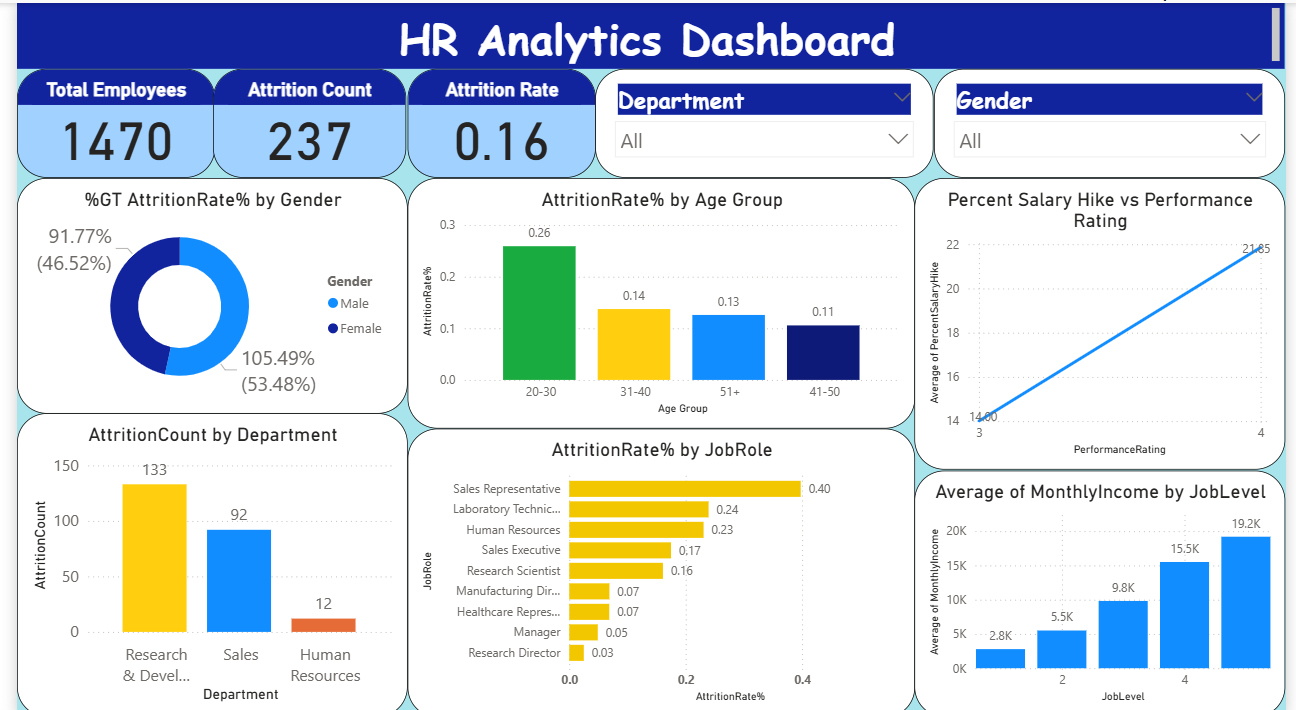

This screenshot's page, from the dashboard's own definition file:
{"tool":"powerbi","page":{"name":"Page 1","canvas":[1280,720],"ordinal":0},"visuals":[{"type":"textbox","box":[0,0,1279.5,66.6],"z":0},{"type":"card","title":"Total Employees","fields":{"Values":["HR-Employee-Attrition.TotalEmployees"]},"box":[0,66.6,199.7,109.8],"z":1000},{"type":"card","title":"Attrition Count","fields":{"Values":["HR-Employee-Attrition.AttritionCount"]},"box":[198,66.6,194.7,109.8],"z":2000},{"type":"card","title":"Attrition Rate","fields":{"Values":["HR-Employee-Attrition.AttritionRate"]},"box":[394.3,66.6,189.7,109.8],"z":3000},{"type":"clusteredColumnChart","fields":{"Category":["HR-Employee-Attrition.Department"],"Y":["HR-Employee-Attrition.AttritionCount"]},"box":[0,414.3,394.3,306.2],"z":4000},{"type":"donutChart","fields":{"Category":["HR-Employee-Attrition.Gender"],"Y":["HR-Employee-Attrition.AttritionRate%"]},"box":[0,176.4,394.3,237.9],"z":5000},{"type":"clusteredColumnChart","fields":{"Category":["HR-Employee-Attrition.Age Group"],"Y":["HR-Employee-Attrition.AttritionRate%"]},"box":[394.3,176.4,512.5,252.9],"z":6000},{"type":"barChart","fields":{"Y":["HR-Employee-Attrition.AttritionRate%"],"Category":["HR-Employee-Attrition.JobRole"]},"box":[394.3,429.3,512.5,291.2],"z":7000},{"type":"clusteredColumnChart","fields":{"Category":["HR-Employee-Attrition.JobLevel"],"Y":["Avg(HR-Employee-Attrition.MonthlyIncome)"]},"box":[905.7,471.4,374.3,248.6],"z":8000},{"type":"lineChart","title":"Percent Salary Hike vs Performance Rating","fields":{"Category":["HR-Employee-Attrition.PerformanceRating"],"Y":["Avg(HR-Employee-Attrition.PercentSalaryHike)"]},"box":[905.2,176.4,374.4,294.5],"z":9000},{"type":"slicer","fields":{"Values":["HR-Employee-Attrition.Department"]},"box":[584,66.6,341.1,109.8],"z":10000},{"type":"slicer","fields":{"Values":["HR-Employee-Attrition.Gender"]},"box":[925.1,66.6,354.4,109.8],"z":11000}]}

Visuals, with their boxes in screenshot pixels (x1, y1, x2, y2), scaled from the page's 1280x720 canvas onto the 1296x710 screenshot:
textbox: bbox(0, 0, 1295, 66)
"Total Employees" card: bbox(0, 66, 202, 174)
"Attrition Count" card: bbox(200, 66, 398, 174)
"Attrition Rate" card: bbox(399, 66, 591, 174)
clusteredColumnChart - HR-Employee-Attrition.Department x HR-Employee-Attrition.AttritionCount: bbox(0, 409, 399, 709)
donutChart - HR-Employee-Attrition.Gender x HR-Employee-Attrition.AttritionRate%: bbox(0, 174, 399, 409)
clusteredColumnChart - HR-Employee-Attrition.Age Group x HR-Employee-Attrition.AttritionRate%: bbox(399, 174, 918, 423)
barChart - HR-Employee-Attrition.AttritionRate% x HR-Employee-Attrition.JobRole: bbox(399, 423, 918, 709)
clusteredColumnChart - HR-Employee-Attrition.JobLevel x Avg(HR-Employee-Attrition.MonthlyIncome): bbox(917, 465, 1295, 709)
"Percent Salary Hike vs Performance Rating" lineChart: bbox(917, 174, 1295, 464)
slicer - HR-Employee-Attrition.Department: bbox(591, 66, 937, 174)
slicer - HR-Employee-Attrition.Gender: bbox(937, 66, 1295, 174)
